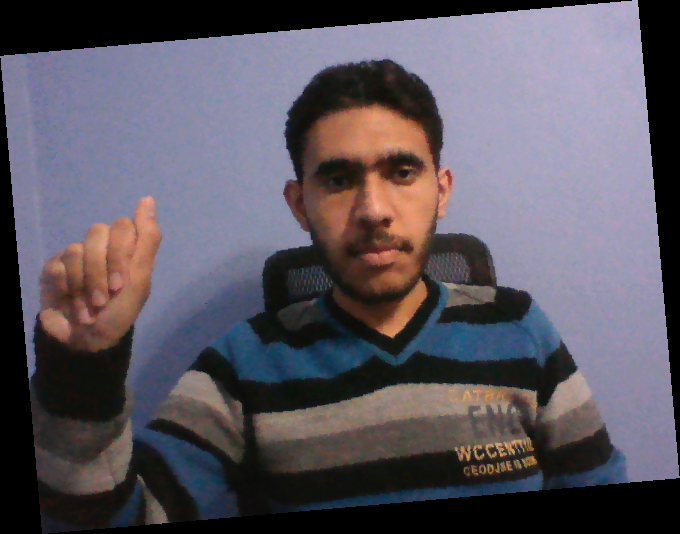A: (36, 194, 164, 352)
